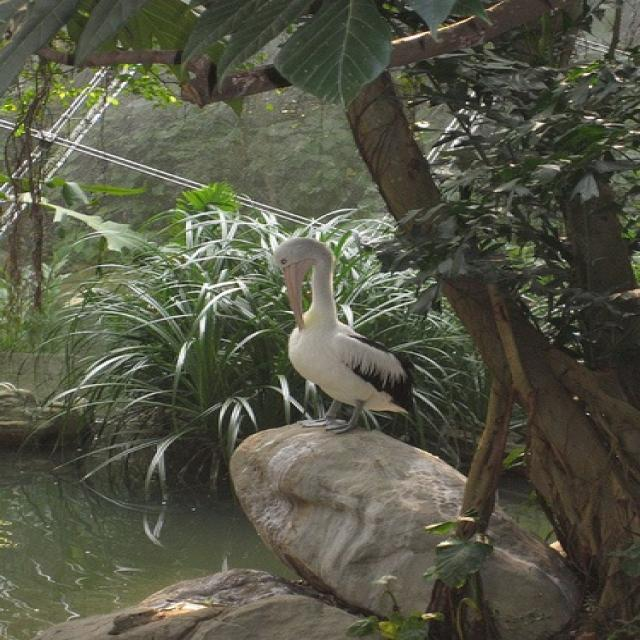bird: (265, 237, 423, 435)
